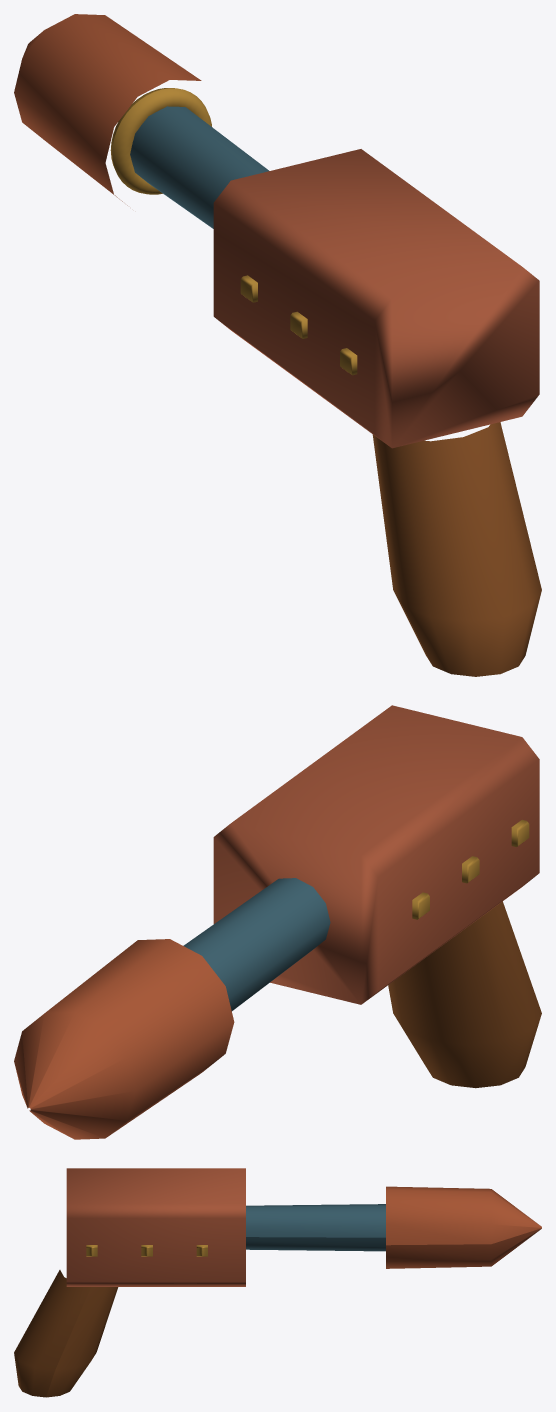
Rendered from weapon_rocket.glb.
3 renders of one model, top to bottom at view 1: azimuth 30°, elevation 25°; view 2: azimuth 150°, elevation 25°; view 3: azimuth 270°, elevation 25°, orthographic. The views are drawn at different scales.
Visible parts, largest first — view 1: ShapedReceiver, Grip, ReadyRocket, HollowBarrel0, BarrelCuff0; view 2: ShapedReceiver, ReadyRocket, Grip, HollowBarrel0; view 3: ShapedReceiver, ReadyRocket, Grip, HollowBarrel0.
Part boxes in pixels (bbox=[...]): ShapedReceiver: bbox=[213, 149, 539, 448]; Grip: bbox=[372, 422, 541, 676]; ReadyRocket: bbox=[14, 14, 201, 205]; HollowBarrel0: bbox=[130, 106, 268, 228]; BarrelCuff0: bbox=[110, 88, 211, 194]; ShapedReceiver: bbox=[213, 705, 539, 1004]; ReadyRocket: bbox=[14, 939, 234, 1139]; Grip: bbox=[388, 901, 541, 1088]; HollowBarrel0: bbox=[183, 878, 330, 1011]; ShapedReceiver: bbox=[66, 1168, 245, 1286]; ReadyRocket: bbox=[386, 1186, 541, 1268]; Grip: bbox=[14, 1270, 118, 1397]; HollowBarrel0: bbox=[246, 1204, 385, 1251].
Bounding box in the file's own units: 0.25 × 0.48 × 1.15.
